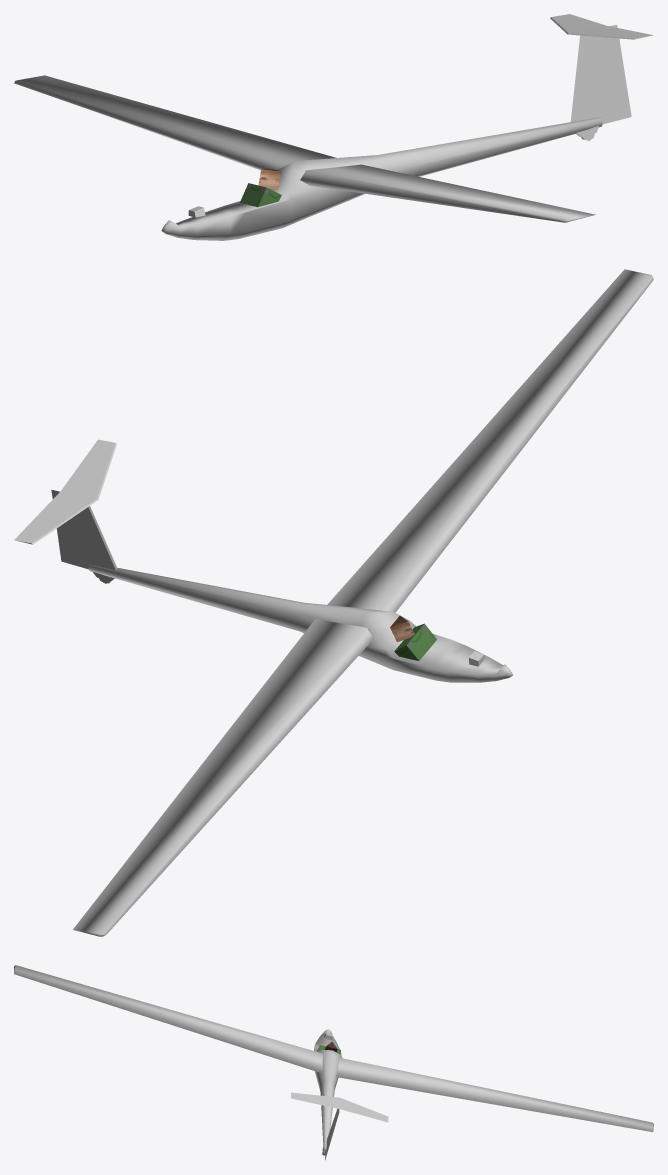
The model's file is glider-blue-ridge-cbj_LOD01.gltf.
The picture shows the model from 3 angles, top to bottom: view 1: azimuth 30°, elevation 25°; view 2: azimuth 150°, elevation 25°; view 3: azimuth 270°, elevation 25°; orthographic projection. The views are drawn at different scales.
Parts seen in each view (by area): view 1: glider00; view 2: glider00; view 3: glider00.
Boxes of the visible parts, x1=… form: glider00: x1=14, y1=14, x2=652, y2=240; glider00: x1=14, y1=269, x2=653, y2=936; glider00: x1=14, y1=965, x2=653, y2=1160.
Size of what is drawn, in the model's own units: 7.01 by 3.93 by 14.54.
